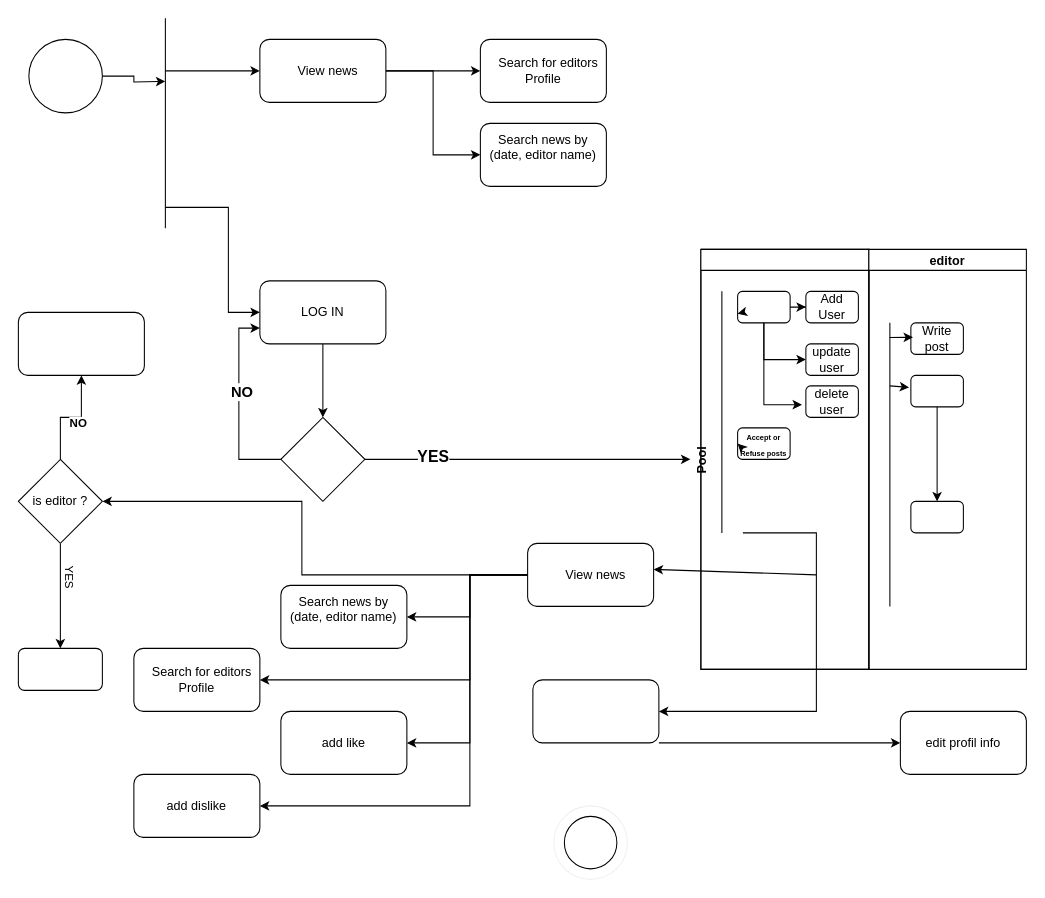
The diagram is 1045 pixels wide and 898 high, and some of its shapes have lost their labels. The shapes that lost their labels are listed below. From the top down, each one's box as (x1, y1, x2, y2) in pixels, then its label:
(737, 290, 790, 323): edit users
(17, 311, 144, 375): add comment
(910, 374, 963, 407): see his post
(280, 416, 365, 501): VALID?
(700, 248, 869, 669): admin
(910, 500, 963, 533): edit post
(17, 647, 102, 690): answer Q
(532, 679, 659, 743): See his profile info
